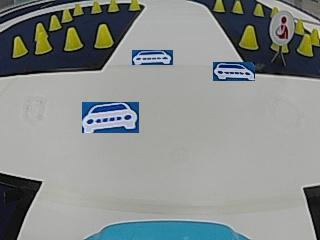cone: (94, 23, 113, 49), (34, 24, 51, 53), (64, 27, 83, 51), (239, 26, 258, 49), (298, 34, 313, 56), (12, 36, 27, 56), (49, 14, 61, 30), (294, 18, 304, 34), (90, 1, 101, 14), (232, 1, 243, 14), (61, 8, 72, 21), (253, 3, 264, 16), (128, 0, 140, 11), (213, 0, 224, 12), (108, 0, 119, 12), (73, 3, 83, 15)
patient: (269, 9, 294, 42)
